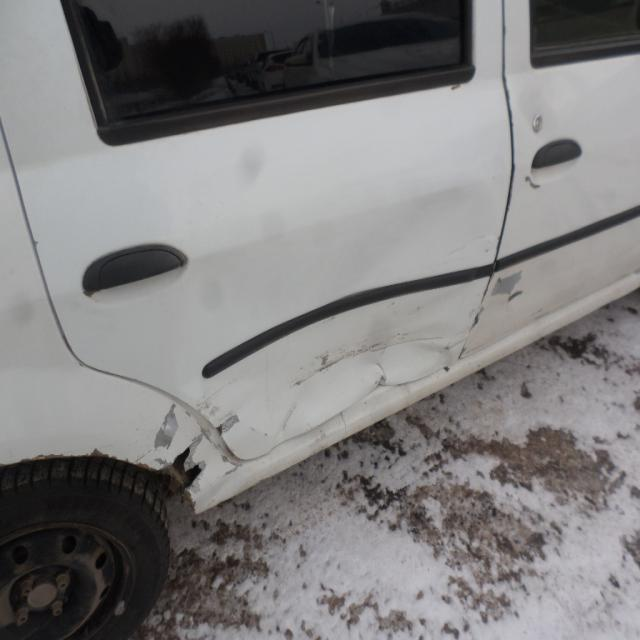Cabossage: (199, 178, 494, 463), (282, 322, 471, 464)
Rayure: (154, 402, 178, 457), (213, 410, 245, 439), (496, 273, 520, 299), (521, 174, 543, 198)
